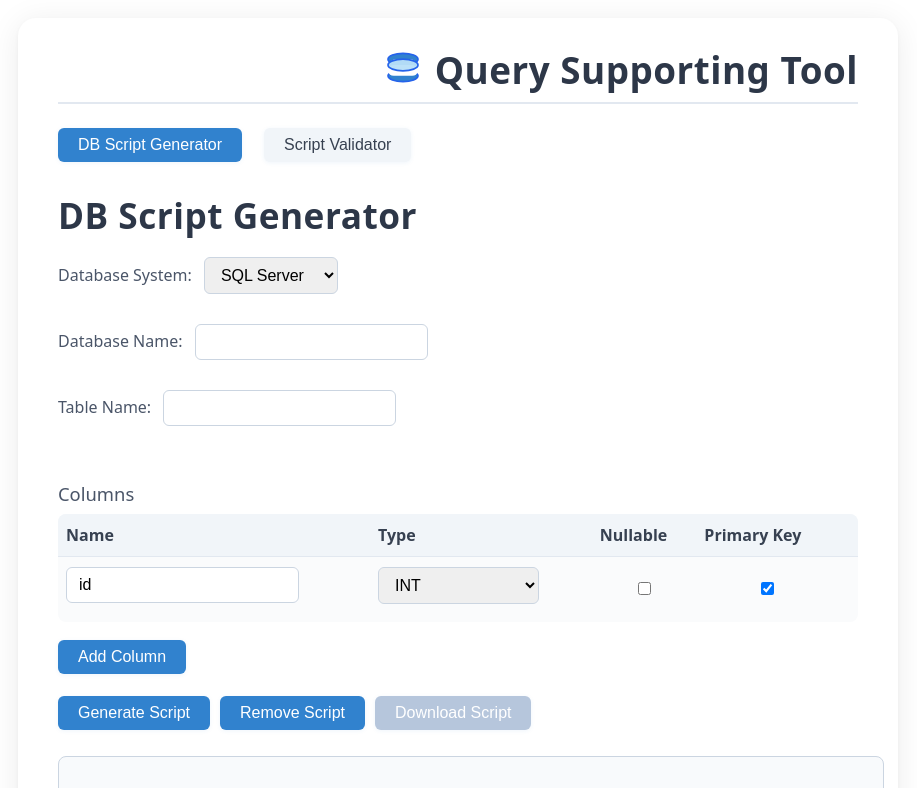
Test case: App UI › Generate Script button generates script
This screenshot has width=917, height=788.
Type "testdb" into the field labelled "Database Name:". click: (311, 342)
box: [195,324,428,360]
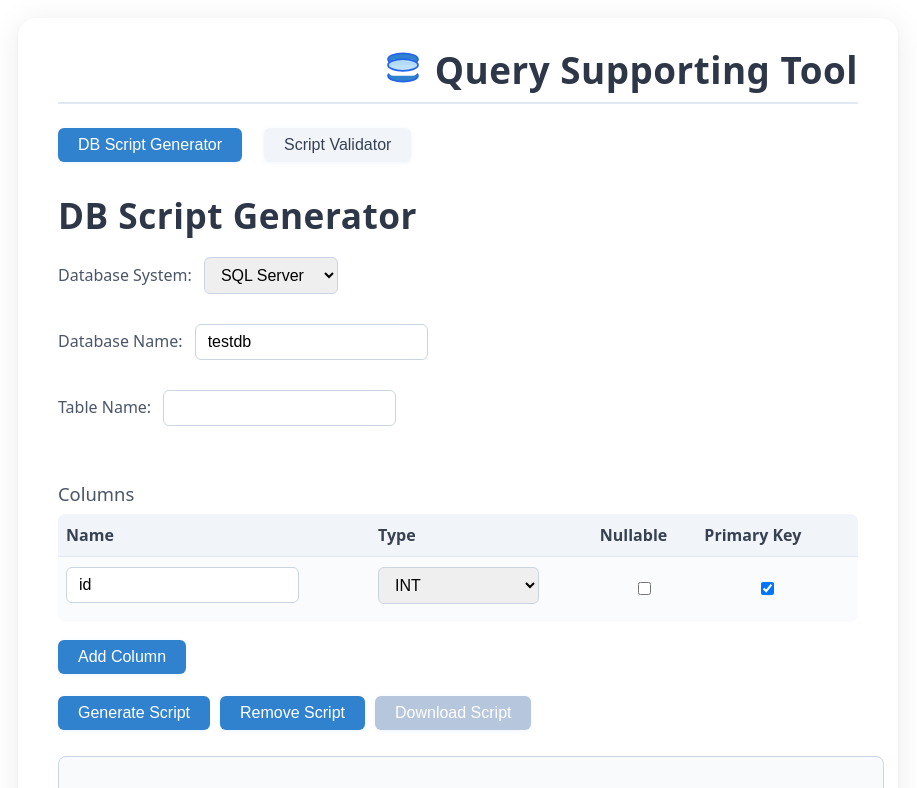
Type "testtable" into the field labelled "Table Name:". click: (280, 408)
box: [163,390,396,426]
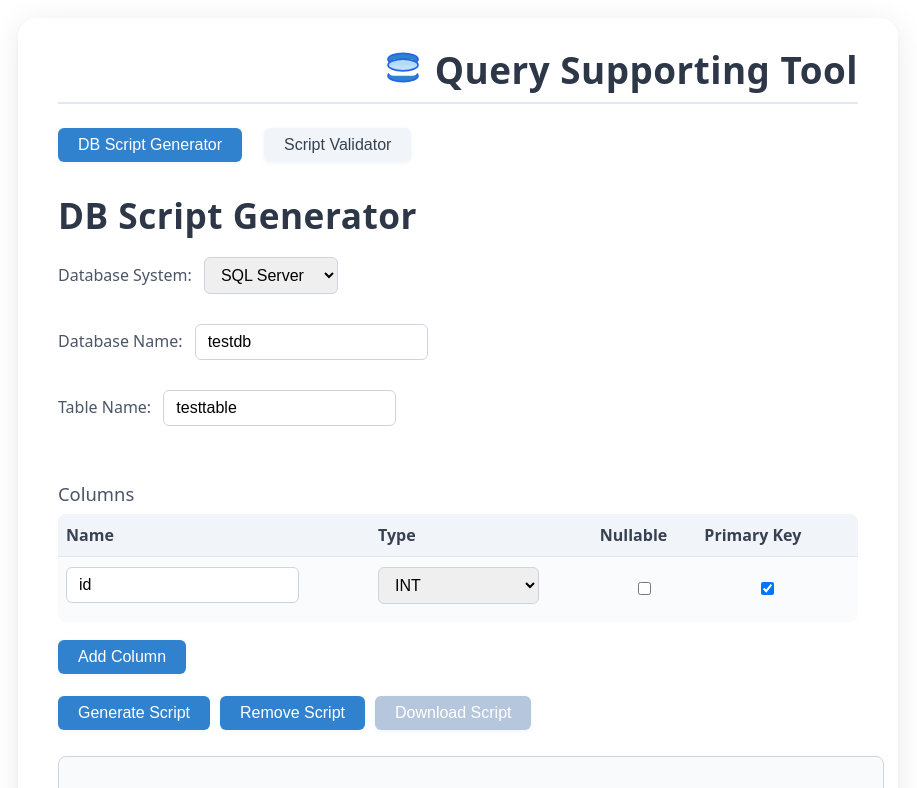
Click the button "Generate Script". click: (134, 713)
box: [58,696,210,730]
(page scrolled)
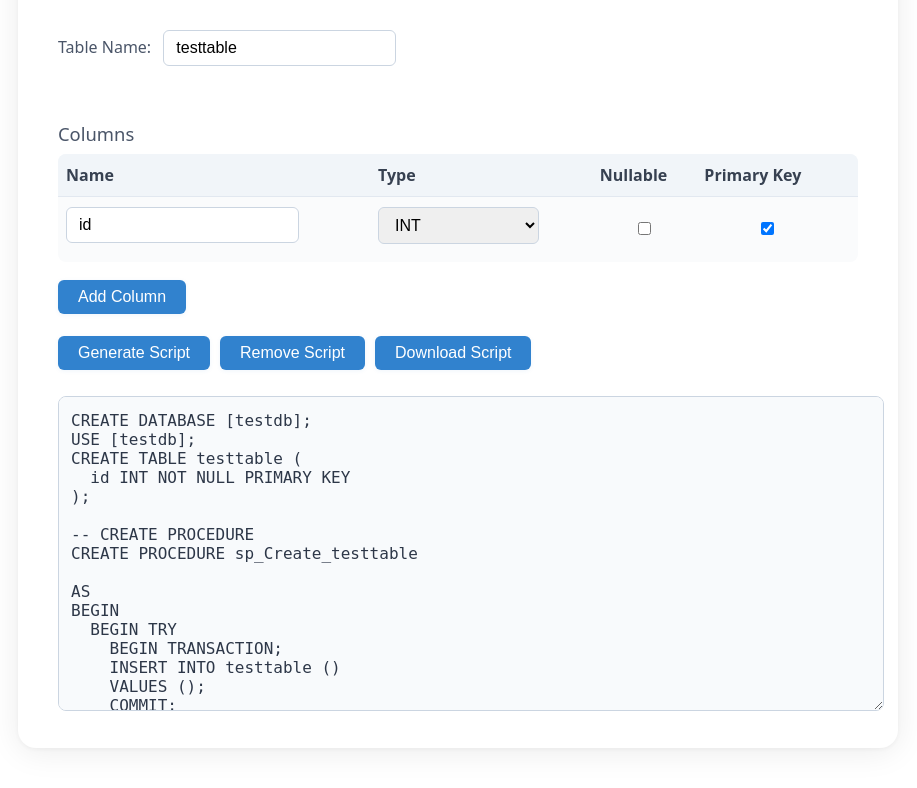
Expected: the text box with test id "output-script" is not empty, [58,396,884,711]
